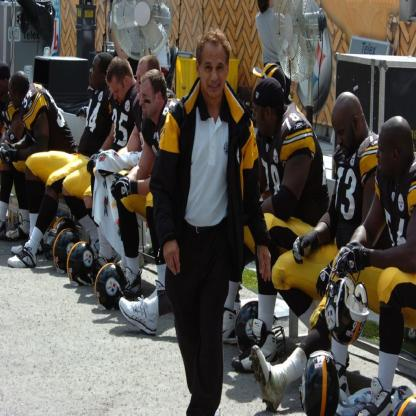Helmet: (322, 264, 370, 346), (234, 299, 288, 366), (93, 262, 137, 316), (309, 358, 346, 415), (65, 242, 102, 284), (53, 233, 79, 271), (51, 217, 76, 238), (396, 397, 416, 415)
